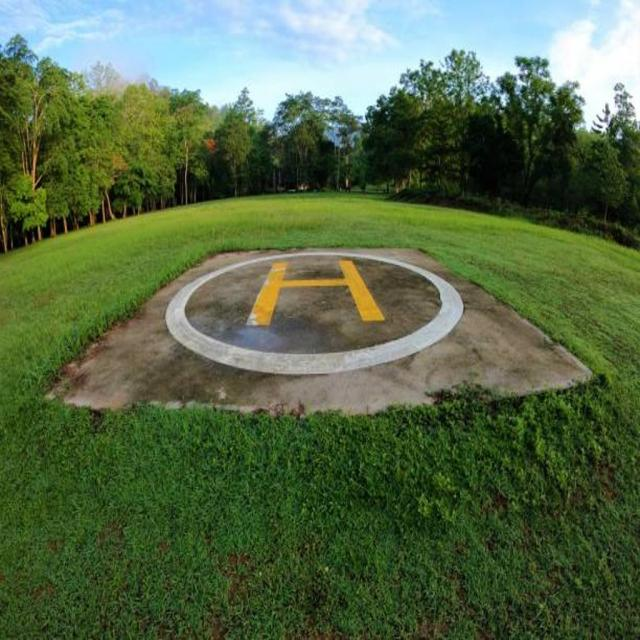helipad: (164, 249, 464, 375)
